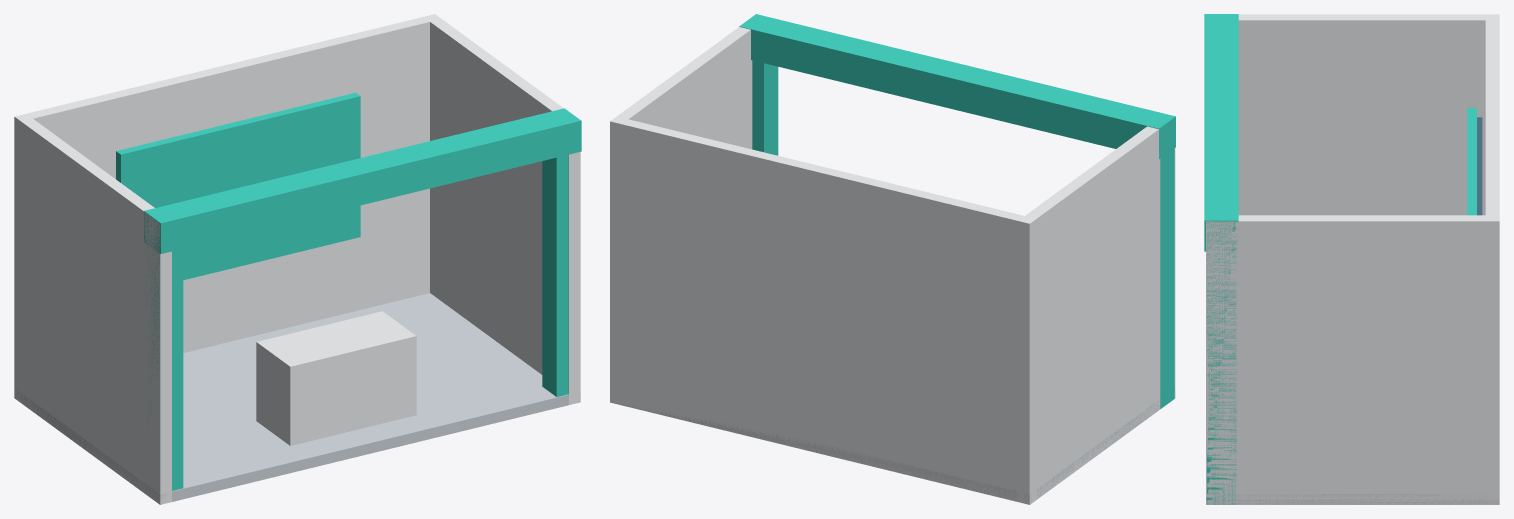
The picture shows the model from 3 angles, left to right: view 1: azimuth 30°, elevation 25°; view 2: azimuth 150°, elevation 25°; view 3: azimuth 270°, elevation 25°; orthographic projection.
Visible parts, largest first — view 1: Exhibition Booth Concept; view 2: Exhibition Booth Concept; view 3: Exhibition Booth Concept.
Part boxes in pixels (x1,y1,x2,y2): Exhibition Booth Concept: (14, 14, 581, 504); Exhibition Booth Concept: (610, 14, 1175, 504); Exhibition Booth Concept: (1204, 14, 1499, 504).
Bounding box in the file's own units: 5 × 3.2 × 3.01.
